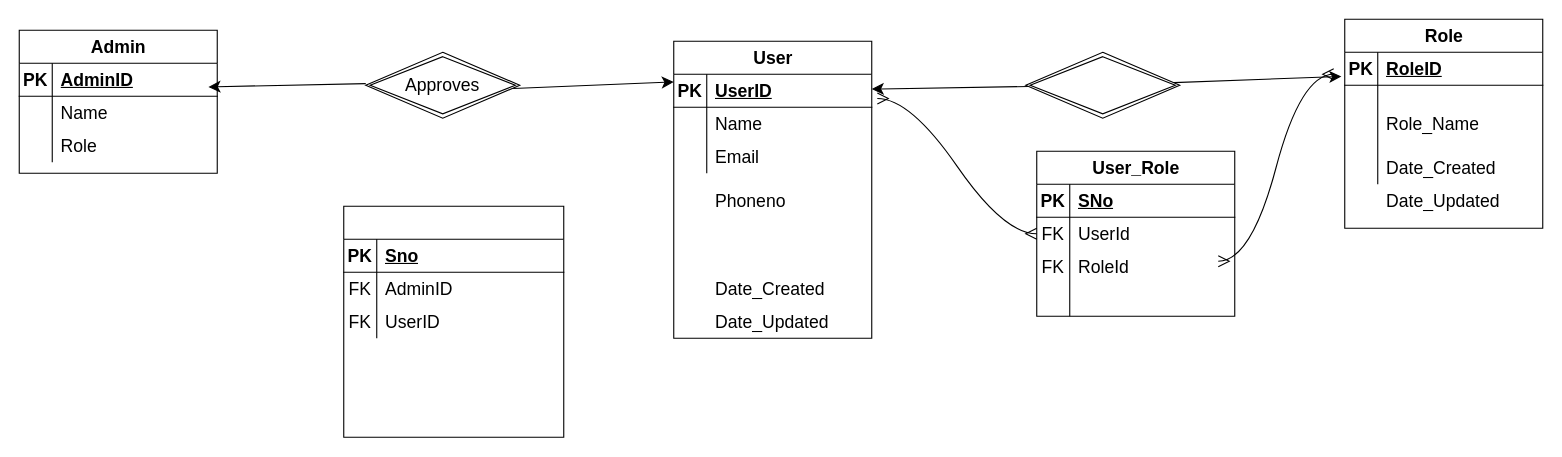
The diagram is 1562 pixels wide and 457 high, and some of its shapes have lost their labels. Here are the shapes that lost their labels. From the top down, the box of each, then its label:
(1025, 51, 1180, 118): Has
(343, 205, 564, 437): Admin_approves-user
